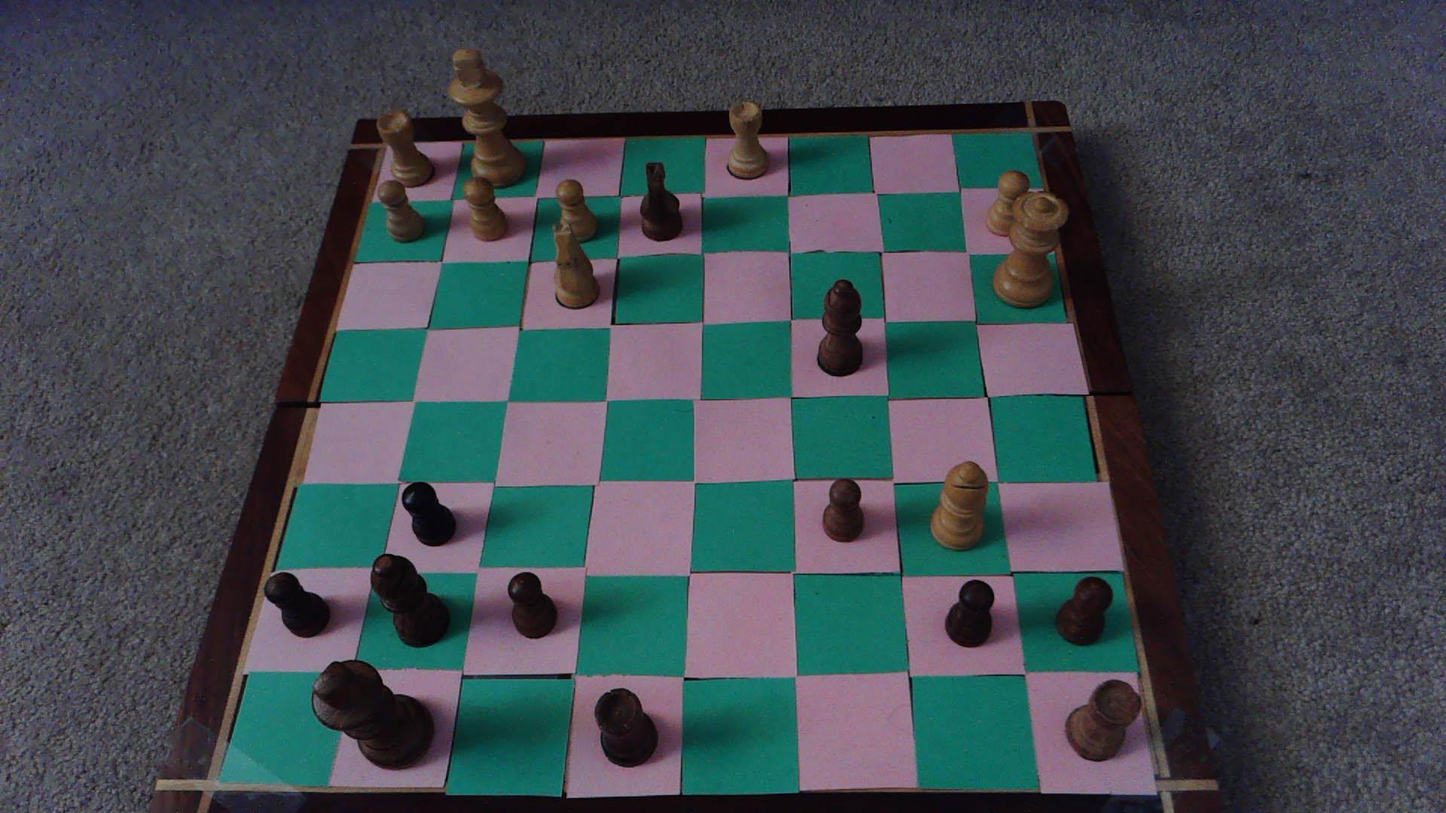dark_piece: (313, 660, 433, 768), (372, 554, 448, 647), (1066, 680, 1141, 760), (595, 688, 657, 766), (817, 279, 862, 375), (265, 573, 329, 637), (1056, 577, 1112, 644), (402, 482, 455, 546), (508, 572, 557, 638), (640, 163, 682, 240), (946, 580, 993, 647), (822, 480, 864, 541)
white_piece: (446, 49, 528, 187), (994, 192, 1067, 306), (932, 461, 988, 550), (551, 222, 600, 310), (377, 113, 435, 186), (376, 179, 426, 244), (726, 102, 768, 179), (986, 170, 1030, 236), (464, 177, 508, 241), (555, 179, 598, 243)
